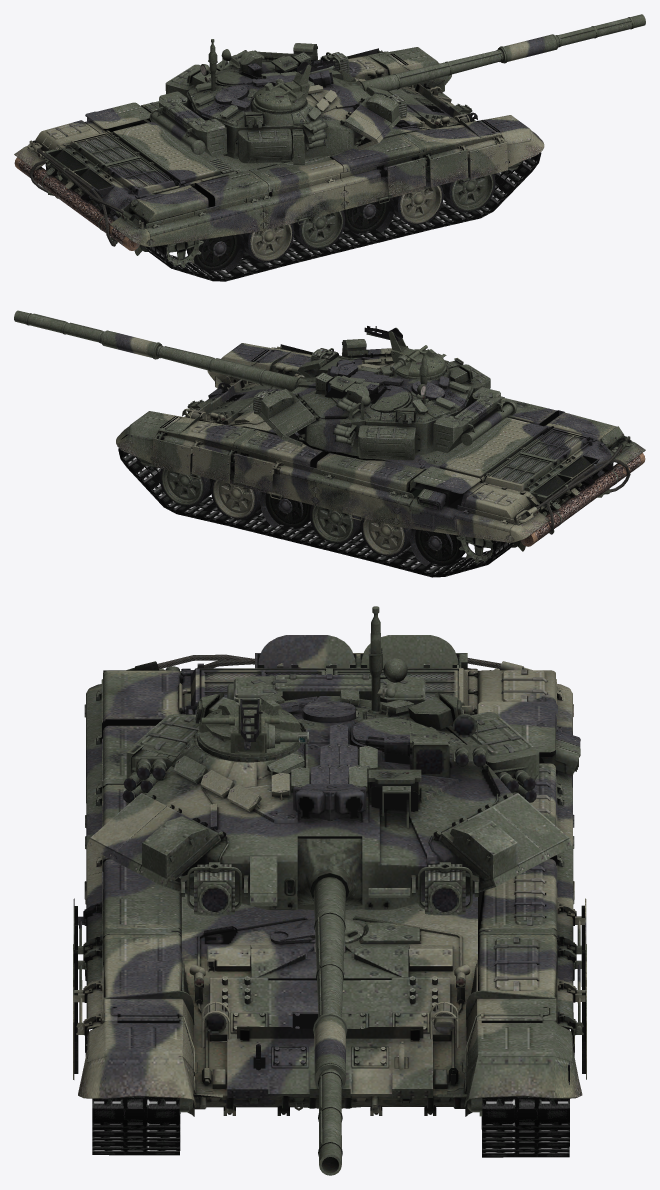
The picture shows the model from 3 angles, top to bottom: view 1: azimuth 30°, elevation 25°; view 2: azimuth 150°, elevation 25°; view 3: azimuth 270°, elevation 25°; orthographic projection. The views are drawn at different scales.
Visible parts, largest first — view 1: Object_3, Turret_6, Object_4, Turret_split_7, Object_2, Object_8, Object_7, Turret_split_4, Object_5, Turret_split_5; view 2: Object_3, Turret_6, Object_4, Turret_split_7, Object_2, Object_8, Object_7, Turret_split_4, Object_5; view 3: Object_3, Turret_6, Turret_split_7, Object_4, Object_8, Turret_split_4, Object_5, Object_7, Object_2, Turret_split_5.
Boxes of the visible parts, left/top/right/bottom form: Object_3: left=14, top=47, right=544, bottom=255; Turret_6: left=149, top=39, right=406, bottom=165; Object_4: left=69, top=78, right=522, bottom=272; Turret_split_7: left=82, top=14, right=645, bottom=180; Object_2: left=14, top=57, right=449, bottom=267; Object_8: left=45, top=137, right=541, bottom=281; Object_7: left=83, top=48, right=468, bottom=195; Turret_split_4: left=78, top=61, right=401, bottom=188; Object_5: left=57, top=106, right=507, bottom=179; Turret_split_5: left=57, top=90, right=383, bottom=161; Object_3: left=116, top=343, right=645, bottom=551; Turret_6: left=253, top=348, right=516, bottom=460; Object_4: left=137, top=374, right=591, bottom=569; Turret_split_7: left=14, top=310, right=588, bottom=468; Object_2: left=225, top=353, right=645, bottom=563; Object_8: left=118, top=433, right=613, bottom=577; Object_7: left=152, top=382, right=587, bottom=483; Turret_split_4: left=295, top=327, right=589, bottom=478; Object_5: left=234, top=344, right=562, bottom=491; Object_3: left=74, top=653, right=585, bottom=1116; Turret_6: left=122, top=606, right=539, bottom=915; Turret_split_7: left=116, top=638, right=568, bottom=1175; Object_4: left=190, top=665, right=467, bottom=1097; Object_8: left=92, top=1028, right=569, bottom=1157; Turret_split_4: left=112, top=663, right=440, bottom=902; Object_5: left=73, top=635, right=586, bottom=1116; Object_7: left=73, top=635, right=586, bottom=1079; Object_2: left=87, top=838, right=572, bottom=1028; Turret_split_5: left=90, top=643, right=370, bottom=851.
Bounding box in the file's own units: 192 × 56.35 × 74.38.
Materials: 2 (2 with a texture image).
